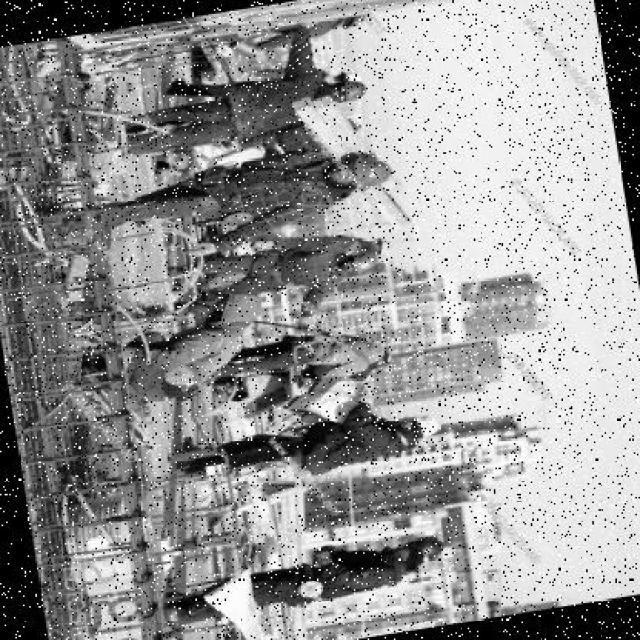Arnes_seguridad: (226, 145, 340, 222), (294, 547, 403, 603), (284, 321, 373, 380)
